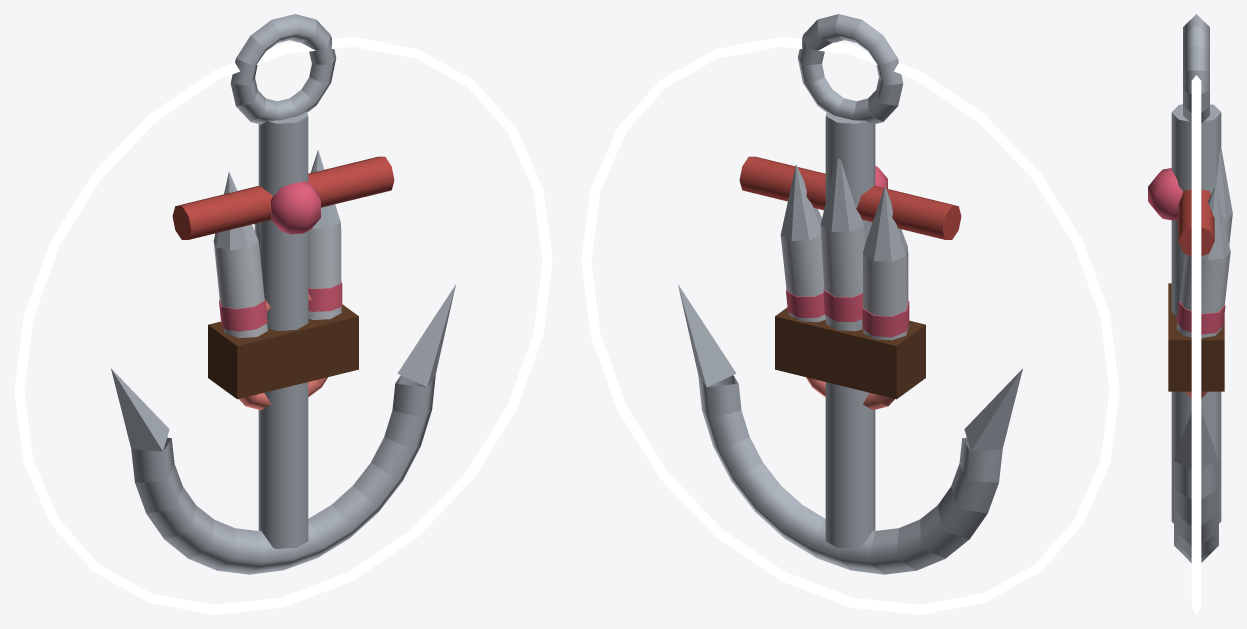
File: sango_p0.glb
3 views of the same model, side by side, from view 1: azimuth 30°, elevation 25°; view 2: azimuth 150°, elevation 25°; view 3: azimuth 270°, elevation 25° (orthographic). The views are drawn at different scales.
Visible parts, largest first — view 1: p0_anchor_body, p0_shells_body, p0_anchor_glow; view 2: p0_anchor_body, p0_shells_body, p0_anchor_glow; view 3: p0_anchor_body, p0_shells_body, p0_anchor_glow.
Boxes of the visible parts, x1,y1,x2,y2 form: p0_anchor_body: (111, 14, 455, 574); p0_shells_body: (208, 150, 358, 399); p0_anchor_glow: (14, 37, 552, 614); p0_anchor_body: (678, 14, 1022, 574); p0_shells_body: (775, 158, 925, 399); p0_anchor_glow: (581, 37, 1119, 614); p0_anchor_body: (1148, 14, 1221, 562); p0_shells_body: (1168, 147, 1232, 391); p0_anchor_glow: (1191, 75, 1201, 614).
Size of the model in its own units: 0.53 by 0.5557 by 0.075.
